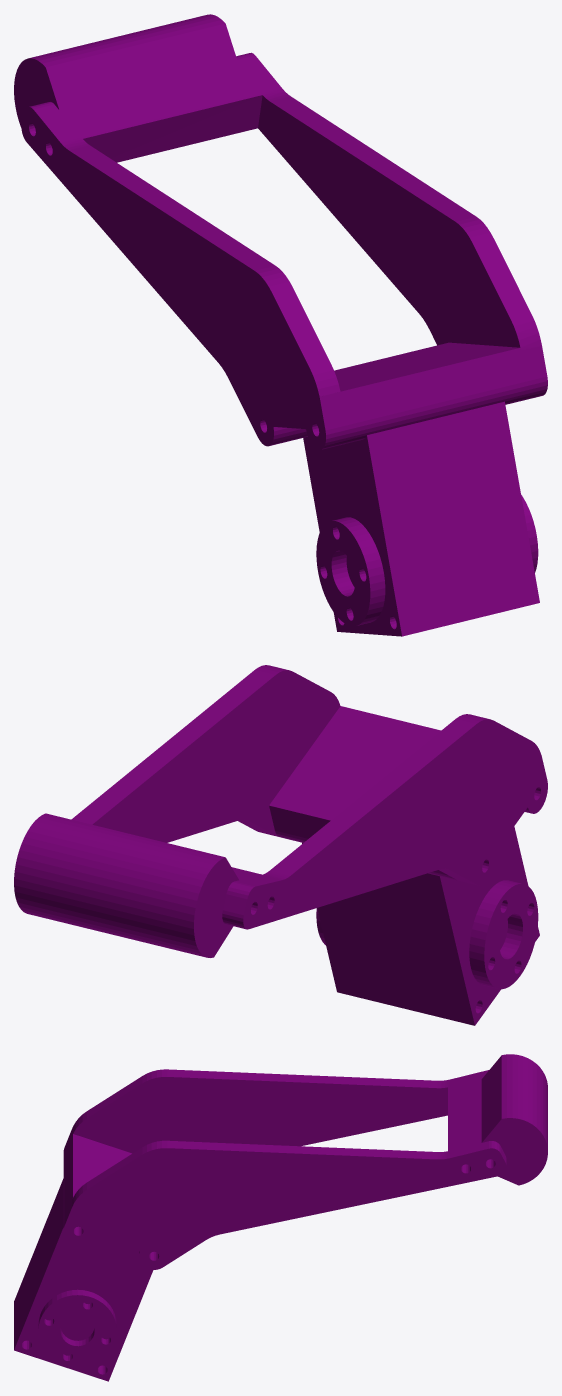
Rendered from hexy_test_5_Tibia_4_vis_1.dae.
3 views of the same model, one above another, from view 1: azimuth 30°, elevation 25°; view 2: azimuth 150°, elevation 25°; view 3: azimuth 270°, elevation 25° (orthographic). The views are drawn at different scales.
Visible parts, largest first — view 1: node; view 2: node; view 3: node.
Part boxes in pixels (x1=…): node: x1=14, y1=14, x2=547, y2=636; node: x1=14, y1=665, x2=547, y2=1025; node: x1=14, y1=1054, x2=547, y2=1381.
Bounding box in the file's own units: 0.185 × 0.297 × 0.5303.
